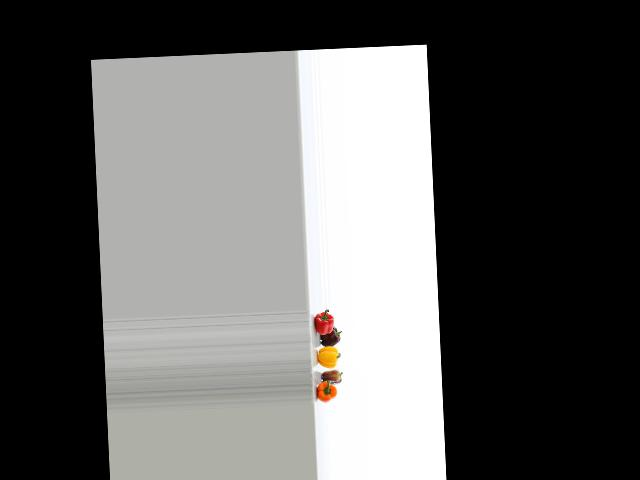bell_pepper: (313, 379, 344, 403)
